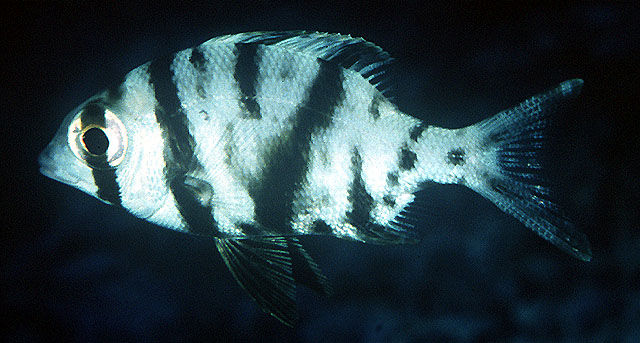fish: (37, 30, 594, 328)
